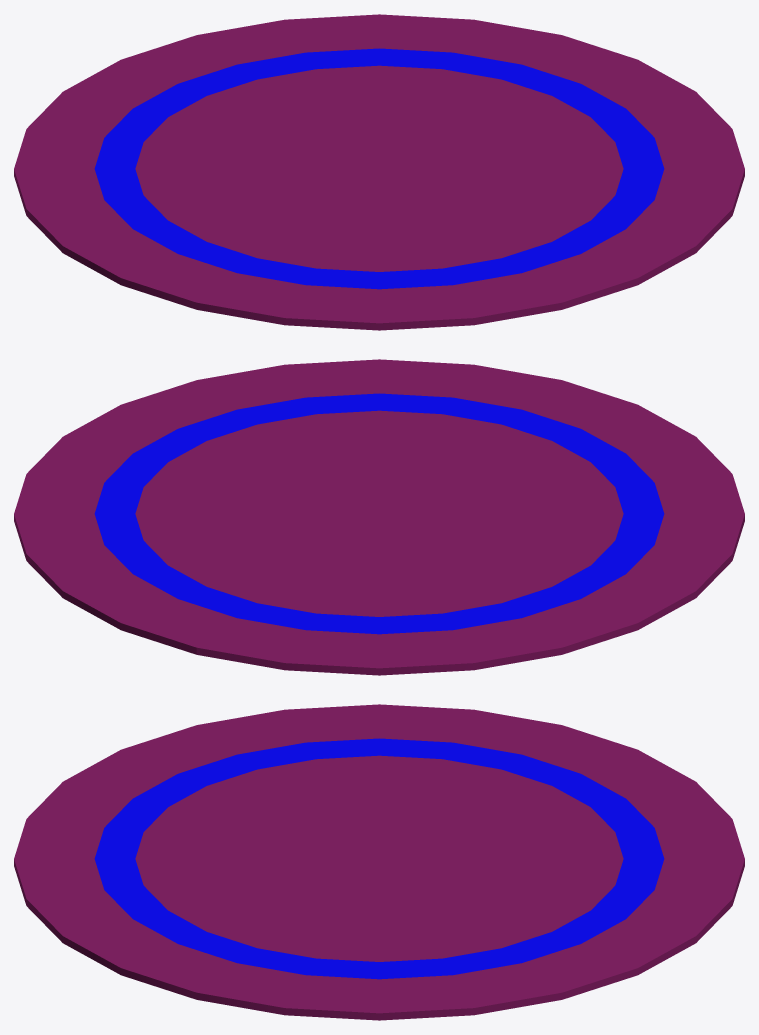
File: rugRound.glb
The picture shows the model from 3 angles, top to bottom: view 1: azimuth 30°, elevation 25°; view 2: azimuth 150°, elevation 25°; view 3: azimuth 270°, elevation 25°; orthographic projection.
Visible parts, largest first — view 1: rugRound; view 2: rugRound; view 3: rugRound.
Boxes of the visible parts, x1=… form: rugRound: x1=14, y1=14, x2=744, y2=330; rugRound: x1=14, y1=359, x2=744, y2=675; rugRound: x1=14, y1=704, x2=744, y2=1020.
Size of the model in its own units: 1.93 by 0.021 by 1.93.
